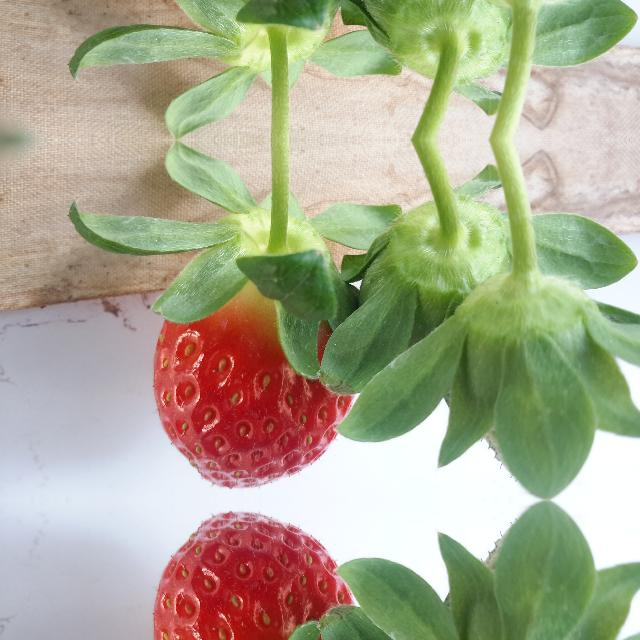Health_100: (153, 252, 355, 488), (153, 512, 355, 640)
